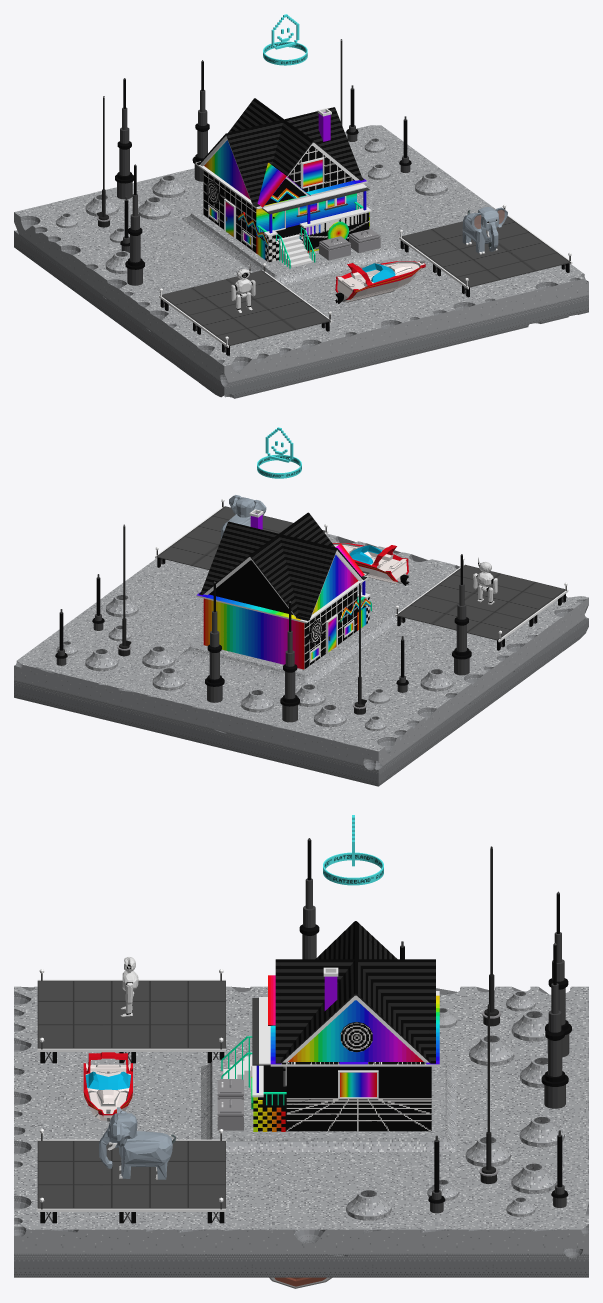
3 renders of one model, top to bottom at view 1: azimuth 30°, elevation 25°; view 2: azimuth 150°, elevation 25°; view 3: azimuth 270°, elevation 25°, orthographic. The views are drawn at different scales.
Visible parts, largest first — view 1: Cube.027, Cube.1320, Cube.025, Cube.026, Cube.028, VEHICLES_BOAT, ANIMAL_ELEFANTE, Cylinder.021, Cylinder.020, Cylinder.017, TYPE_PREMIUM, OBJRANDOM_PLATZEEBOT (+5 smaller); view 2: Cube.027, Cube.1320, Cube.025, Cube.028, Cube.026, VEHICLES_BOAT, Cylinder.021, Cylinder.020, Cylinder.017, TYPE_PREMIUM, ANIMAL_ELEFANTE, OBJRANDOM_PLATZEEBOT (+9 smaller); view 3: Cube.027, Cube.1320, Cube.025, Cube.026, Cube.028, ANIMAL_ELEFANTE, VEHICLES_BOAT, Cylinder.017, Cylinder.020, Cylinder.021, TYPE_PREMIUM, Cylinder.033 (+12 smaller).
Part boxes in pixels (x1,y1,x2,y2): Cube.027: (14,125,588,398); Cube.1320: (195,98,371,268); Cube.025: (159,263,332,355); Cube.026: (399,204,572,297); Cube.028: (182,210,402,284); VEHICLES_BOAT: (335,260,425,303); ANIMAL_ELEFANTE: (462,207,507,254); Cylinder.021: (125,164,144,285); Cylinder.020: (115,78,133,199); Cylinder.017: (192,60,209,181); TYPE_PREMIUM: (263,14,307,65); OBJRANDOM_PLATZEEBOT: (231,264,255,312); Cube.027: (14,534,588,786); Cube.1320: (196,509,371,669); Cube.025: (395,557,568,650); Cube.028: (180,607,397,685); Cube.026: (155,499,328,569); VEHICLES_BOAT: (332,543,409,585); Cylinder.021: (452,554,471,675); Cylinder.020: (280,601,299,722); Cylinder.017: (205,581,224,702); TYPE_PREMIUM: (257,427,301,478); ANIMAL_ELEFANTE: (221,495,266,539); OBJRANDOM_PLATZEEBOT: (473,557,497,604); Cube.027: (14,986,588,1277); Cube.1320: (221,921,439,1131); Cube.025: (37,969,225,1063); Cube.026: (37,1129,225,1223); Cube.028: (201,1059,456,1151); ANIMAL_ELEFANTE: (99,1107,175,1179); VEHICLES_BOAT: (83,1052,132,1121); Cylinder.017: (541,943,568,1108); Cylinder.020: (545,891,571,1057); Cylinder.021: (299,838,319,959); TYPE_PREMIUM: (323,815,383,885); Cylinder.033: (346,1189,391,1220).
Size of the model in its own units: 4000 by 3420 by 4000.
Materials: 36 (7 with a texture image).
